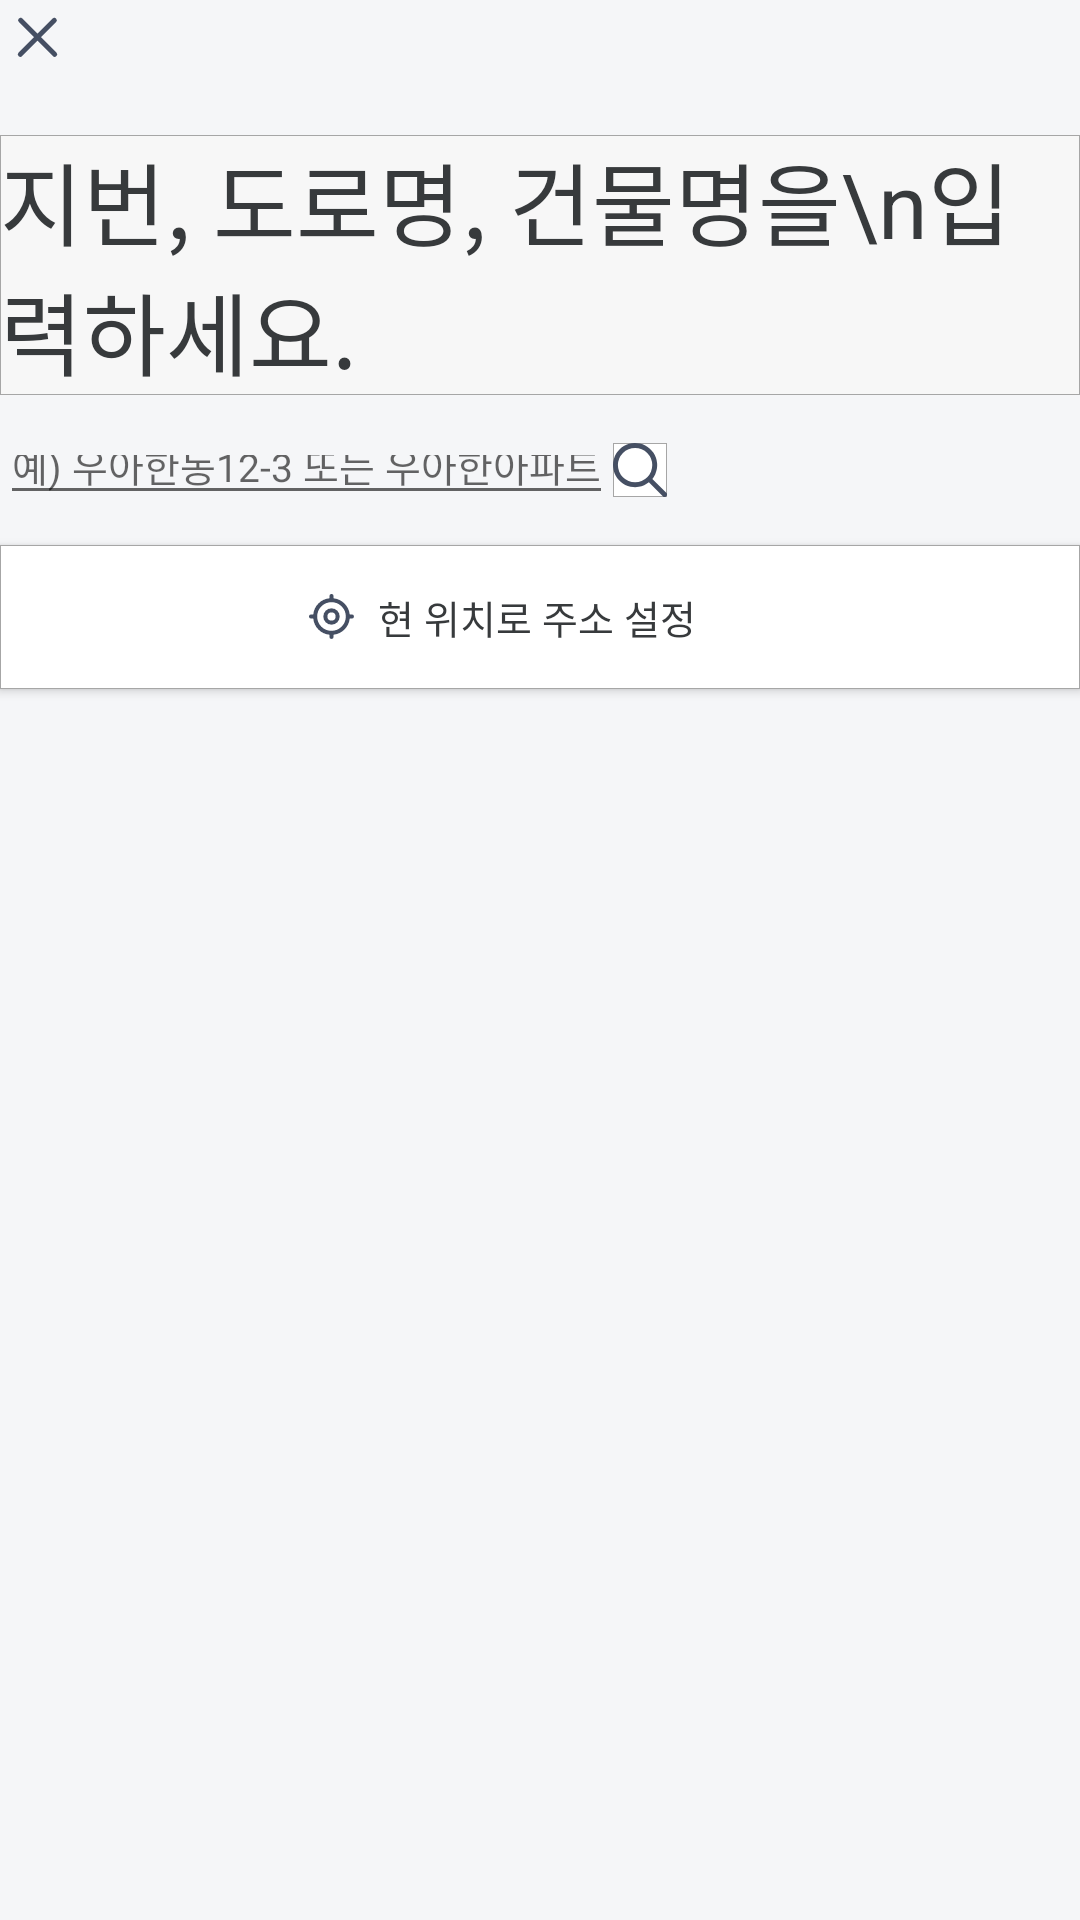

Named icons in this screenshot (1080x1920) and their bounding boxes, [left=x1, top=y1, right=x2, bottom=y2]:
cancel: [left=17, top=17, right=58, bottom=57]
search: [left=613, top=443, right=667, bottom=497]
